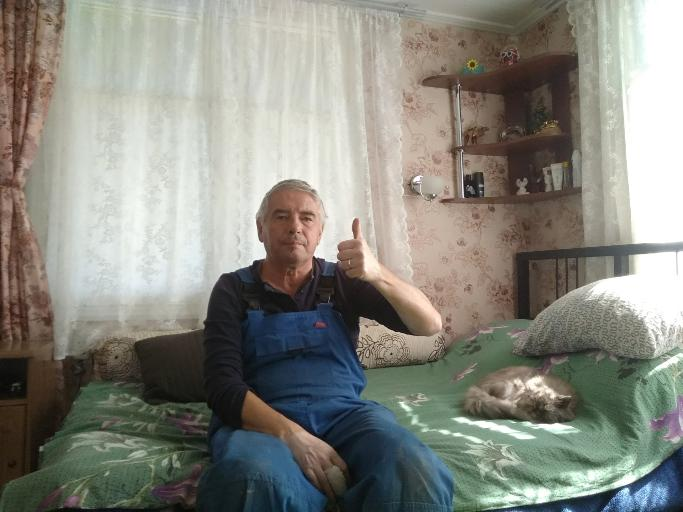like: (334, 215, 379, 281)
no_gesture: (282, 426, 351, 497)
